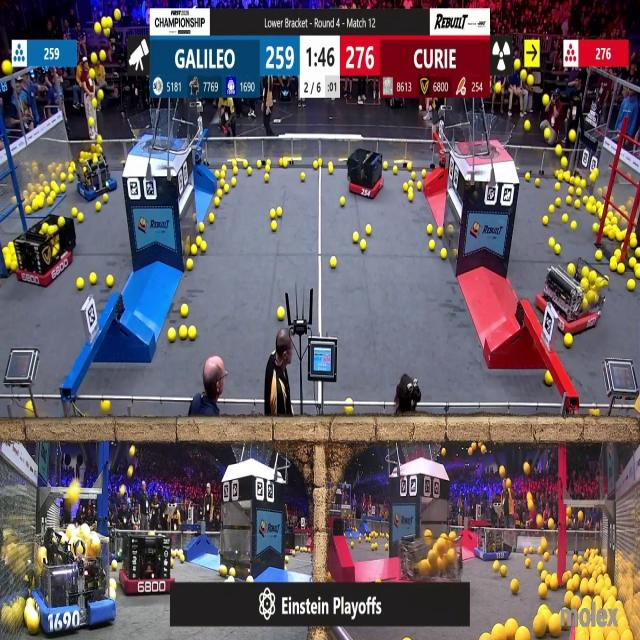ball_airborne: (67, 488, 78, 504), (2, 62, 11, 77), (568, 130, 576, 143), (100, 16, 108, 28), (590, 169, 598, 181), (561, 158, 568, 170), (527, 498, 534, 510), (536, 515, 542, 528), (498, 468, 504, 481), (527, 75, 534, 86), (494, 84, 501, 95), (524, 119, 531, 130), (92, 54, 99, 65), (516, 60, 522, 72), (556, 144, 562, 156), (114, 8, 120, 20), (524, 462, 530, 474), (98, 90, 105, 100), (541, 96, 548, 106), (543, 129, 549, 140), (100, 52, 106, 63), (98, 67, 105, 76), (93, 98, 99, 108), (130, 447, 136, 457), (521, 70, 527, 80), (119, 486, 125, 496), (546, 520, 552, 530), (96, 24, 102, 34), (104, 28, 110, 38), (129, 466, 134, 477), (467, 448, 473, 457), (91, 70, 96, 80), (90, 116, 95, 125), (505, 480, 510, 488), (98, 136, 102, 145), (482, 446, 486, 455), (578, 512, 582, 521), (443, 449, 447, 457)
ball_ground: (28, 615, 40, 636), (550, 619, 562, 639), (517, 628, 530, 640), (511, 580, 520, 596), (538, 586, 547, 600), (544, 372, 552, 387), (570, 596, 579, 609), (187, 326, 195, 340), (564, 336, 572, 349), (564, 594, 572, 607), (90, 274, 98, 286), (628, 280, 636, 292), (102, 399, 110, 411), (180, 306, 188, 318), (76, 278, 84, 290), (630, 236, 638, 248), (169, 328, 176, 341), (180, 326, 187, 339), (26, 400, 34, 411), (546, 238, 554, 248), (346, 407, 354, 417), (629, 257, 637, 267), (616, 232, 624, 242), (107, 276, 114, 287), (329, 256, 336, 267), (426, 223, 433, 234), (220, 565, 227, 576), (186, 260, 192, 272), (278, 308, 284, 320), (442, 248, 448, 260), (610, 260, 616, 272), (53, 184, 59, 196), (189, 246, 196, 256), (619, 265, 626, 275), (364, 224, 371, 234), (492, 561, 499, 571), (588, 204, 595, 214), (352, 233, 358, 244), (271, 208, 277, 219), (230, 568, 237, 577), (272, 220, 278, 230), (596, 250, 602, 260), (555, 244, 561, 254), (436, 228, 442, 238), (500, 565, 506, 575), (428, 241, 434, 251), (201, 242, 207, 252), (10, 263, 16, 273), (636, 397, 640, 411), (591, 411, 599, 418), (482, 633, 490, 640), (317, 161, 324, 169), (562, 214, 568, 223), (77, 213, 83, 222), (547, 205, 553, 214), (616, 249, 622, 258), (111, 561, 117, 570), (540, 572, 546, 581), (26, 206, 32, 215), (360, 241, 365, 251), (328, 165, 333, 175), (635, 269, 640, 279), (556, 200, 562, 208), (214, 199, 220, 207), (247, 575, 253, 583), (566, 198, 572, 206), (524, 173, 530, 181), (524, 560, 530, 568), (537, 562, 543, 570), (216, 188, 222, 196), (422, 170, 428, 178), (194, 237, 200, 245), (61, 174, 67, 182), (341, 198, 346, 207), (97, 203, 102, 212), (594, 223, 599, 232), (542, 216, 547, 225), (72, 208, 77, 217), (299, 173, 304, 182), (103, 193, 108, 202), (200, 222, 205, 231), (409, 191, 414, 200), (61, 183, 66, 192), (277, 208, 282, 217), (568, 185, 573, 194), (46, 198, 51, 207), (68, 175, 74, 182), (575, 188, 581, 195), (603, 227, 609, 234), (571, 221, 576, 229), (412, 172, 417, 180), (574, 201, 579, 209), (223, 184, 228, 192), (635, 248, 640, 256), (408, 164, 413, 172), (543, 553, 548, 561), (215, 171, 220, 179), (608, 232, 613, 240), (449, 224, 454, 232), (210, 214, 214, 223), (535, 178, 539, 187), (233, 178, 237, 187), (403, 182, 407, 191), (556, 183, 561, 190), (266, 167, 271, 174), (524, 547, 529, 554), (284, 558, 289, 565), (371, 543, 376, 550), (418, 182, 422, 190), (248, 168, 252, 176), (234, 168, 238, 176), (220, 179, 224, 187), (180, 556, 184, 564), (257, 162, 261, 170), (284, 161, 288, 169), (384, 163, 388, 171), (266, 175, 270, 182), (393, 168, 397, 175), (314, 163, 318, 170), (244, 162, 248, 169), (377, 577, 381, 583)
goal: (460, 118, 516, 158), (129, 115, 186, 152)
robot_blue: (32, 525, 118, 631), (76, 145, 118, 203), (477, 528, 511, 560)
robot_red: (544, 260, 604, 333), (16, 212, 75, 286), (120, 533, 174, 596), (348, 146, 386, 198)
